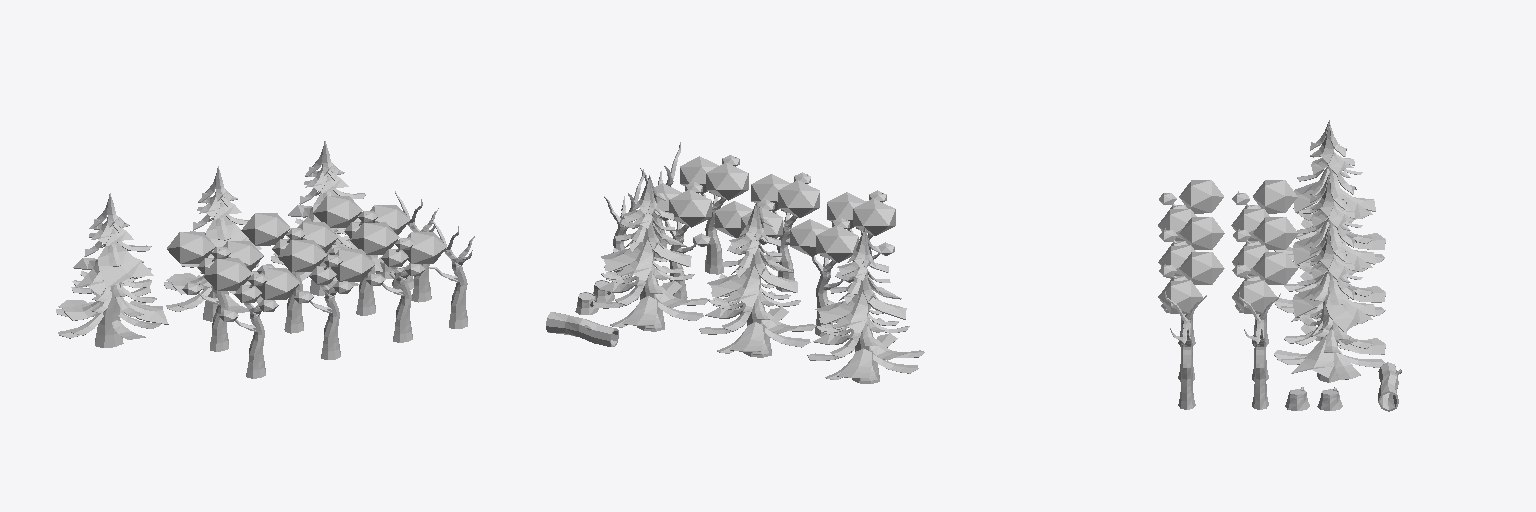
Rendered from low-poly_tree-assets.obj.
3 renders of one model, left to right at view 1: azimuth 30°, elevation 25°; view 2: azimuth 150°, elevation 25°; view 3: azimuth 270°, elevation 25°, orthographic.
Visible parts, largest first — view 1: leaveless_tree, pine_tree4 pPlane9, group3 pPlatonic24, group4 pPlatonic4, group3 pPlatonic4, group4 pPlatonic27, group1 pPlatonic9, group1 pPlatonic17, tree1 group1, tree group4, tree group3, group3 pPlatonic1 (+11 smaller); view 2: log pine, group1 pPlatonic9, group4 pPlatonic4, group3 pPlatonic4, group1 pPlatonic17, group4 pPlatonic27, tree1 group1, group4 pPlatonic30, group3 pPlatonic21, group4 tree4, group3 pPlatonic1, group1 pPlatonic12 (+14 smaller); view 3: leaveless_tree1, leaveless_tree, group4 pPlatonic4, group4 pPlatonic27, group1 pPlatonic9, group1 pPlatonic17, group3 pPlatonic24, group3 pPlatonic4, group1 pPlatonic12, group1 pPlatonic20, log pine, pine_tree2 pPlane19 (+6 smaller).
Part boxes in pixels (left/top/right/bottom): leaveless_tree: left=428, top=218, right=474, bottom=328; pine_tree4 pPlane9: left=98, top=243, right=153, bottom=287; group3 pPlatonic24: left=241, top=213, right=290, bottom=245; group4 pPlatonic4: left=203, top=258, right=252, bottom=290; group3 pPlatonic4: left=278, top=240, right=327, bottom=271; group4 pPlatonic27: left=167, top=232, right=215, bottom=263; group1 pPlatonic9: left=350, top=222, right=399, bottom=254; group1 pPlatonic17: left=313, top=196, right=362, bottom=227; tree1 group1: left=382, top=241, right=412, bottom=342; tree group4: left=235, top=277, right=265, bottom=378; tree group3: left=310, top=259, right=340, bottom=359; group3 pPlatonic1: left=326, top=249, right=374, bottom=281; log pine: left=546, top=312, right=618, bottom=346; group1 pPlatonic9: left=706, top=163, right=748, bottom=200; group4 pPlatonic4: left=853, top=198, right=895, bottom=235; group3 pPlatonic4: left=778, top=180, right=819, bottom=217; group1 pPlatonic17: left=669, top=189, right=711, bottom=227; group4 pPlatonic27: left=816, top=225, right=858, bottom=262; tree1 group1: left=701, top=157, right=736, bottom=274; group4 pPlatonic30: left=790, top=219, right=829, bottom=256; group3 pPlatonic21: left=715, top=201, right=752, bottom=237; group4 tree4: left=812, top=218, right=846, bottom=336; group3 pPlatonic1: left=751, top=174, right=790, bottom=211; group1 pPlatonic12: left=680, top=156, right=718, bottom=193; leaveless_tree1: left=1238, top=290, right=1280, bottom=409; leaveless_tree: left=1165, top=291, right=1206, bottom=409; group4 pPlatonic4: left=1179, top=180, right=1223, bottom=213; group4 pPlatonic27: left=1253, top=180, right=1297, bottom=213; group1 pPlatonic9: left=1179, top=252, right=1224, bottom=284; group1 pPlatonic17: left=1253, top=252, right=1297, bottom=284; group3 pPlatonic24: left=1253, top=217, right=1298, bottom=249; group3 pPlatonic4: left=1179, top=217, right=1224, bottom=249; group1 pPlatonic12: left=1158, top=280, right=1202, bottom=313; group1 pPlatonic20: left=1232, top=280, right=1276, bottom=313; log pine: left=1378, top=362, right=1398, bottom=411; pine_tree2 pPlane19: left=1291, top=336, right=1333, bottom=377.
Size of the model in its own units: 44.9 by 18.94 by 27.4.